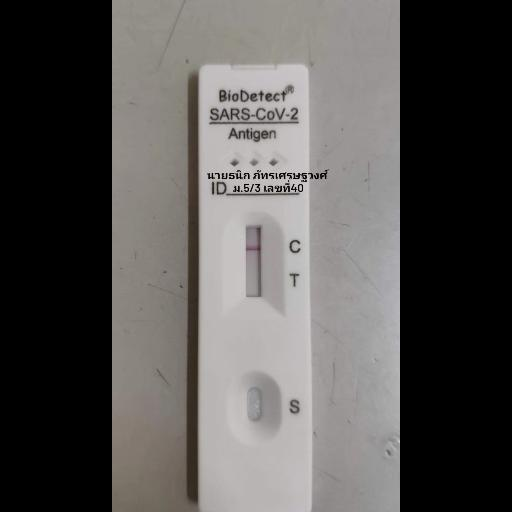Neg: (200, 68, 312, 510)
